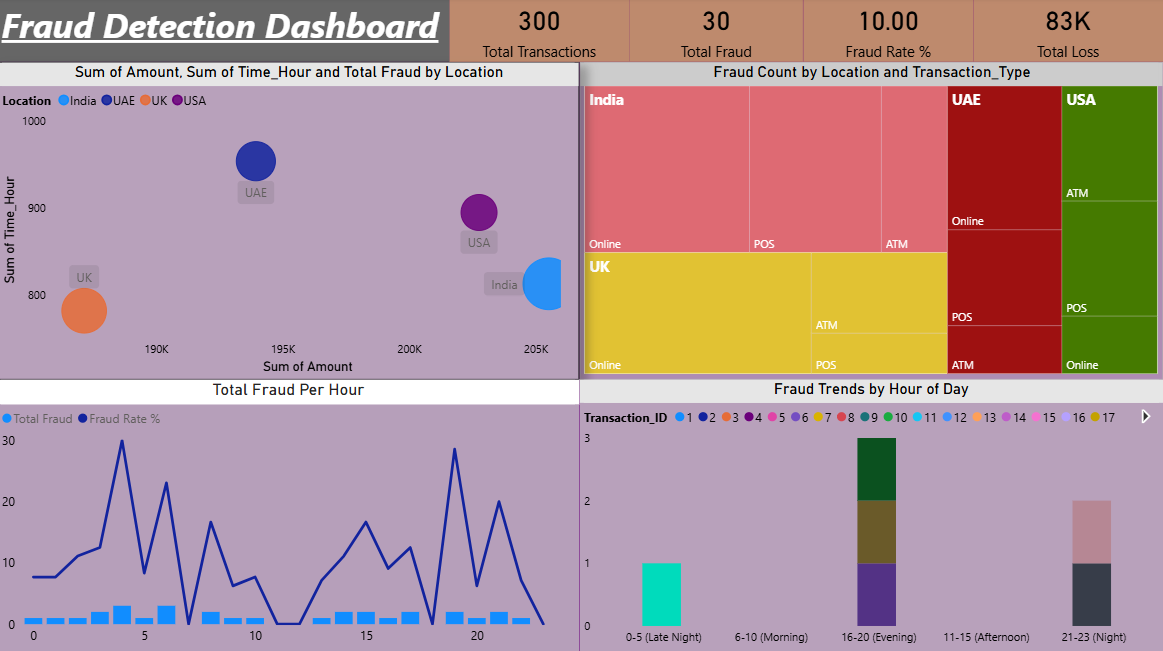

This screenshot's page, from the dashboard's own definition file:
{"tool":"powerbi","page":{"name":"Page 1","canvas":[1280,720],"ordinal":0},"visuals":[{"type":"textbox","box":[0,0,496.7,71.4],"z":0},{"type":"treemap","fields":{"Group":["fraud_detection_data.Location"],"Details":["fraud_detection_data.Transaction_Type"],"Values":["fraud_detection_data.Fraud Count"]},"box":[639.5,71.4,640.8,348.5],"z":1000},{"type":"scatterChart","fields":{"X":["Sum(fraud_detection_data.Amount)"],"Y":["Sum(fraud_detection_data.Time_Hour)"],"Series":["fraud_detection_data.Location"],"Size":["fraud_detection_data.Total Fraud"]},"box":[0,71.4,639.5,348.5],"z":2000},{"type":"ribbonChart","title":"Fraud Trends by Hour of Day","fields":{"Category":["fraud_detection_data.Hour Group"],"Series":["fraud_detection_data.Transaction_ID"],"Y":["fraud_detection_data.Total Fraud"]},"box":[639.5,419.9,640.8,300.5],"z":3000},{"type":"lineClusteredColumnComboChart","title":"Total Fraud Per Hour","fields":{"Category":["fraud_detection_data.Time_Hour"],"Y":["fraud_detection_data.Total Fraud"],"Y2":["fraud_detection_data.Fraud Rate %"]},"box":[0,419.9,639.5,300.5],"z":4000},{"type":"card","fields":{"Values":["fraud_detection_data.Total Transactions"]},"box":[496.7,0,197.6,71.4],"z":5000},{"type":"card","fields":{"Values":["fraud_detection_data.Total Fraud"]},"box":[694.3,0,190.7,71.4],"z":6000},{"type":"card","fields":{"Values":["fraud_detection_data.Fraud Rate %"]},"box":[885.1,0,186.6,71.4],"z":7000},{"type":"card","fields":{"Values":["fraud_detection_data.Total Loss"]},"box":[1071.7,0,208.6,71.4],"z":8000}]}

Visuals, with their boxes in screenshot pixels (x1, y1, x2, y2), scaled from the page's 1280x720 canvas onto the 1163x651 screenshot:
textbox: 0,0,451,65
treemap - fraud_detection_data.Location x fraud_detection_data.Transaction_Type: 581,65,1162,380
scatterChart - Sum(fraud_detection_data.Amount) x Sum(fraud_detection_data.Time_Hour): 0,65,581,380
"Fraud Trends by Hour of Day" ribbonChart: 581,380,1162,650
"Total Fraud Per Hour" lineClusteredColumnComboChart: 0,380,581,650
card - fraud_detection_data.Total Transactions: 451,0,631,65
card - fraud_detection_data.Total Fraud: 631,0,804,65
card - fraud_detection_data.Fraud Rate %: 804,0,974,65
card - fraud_detection_data.Total Loss: 974,0,1162,65
